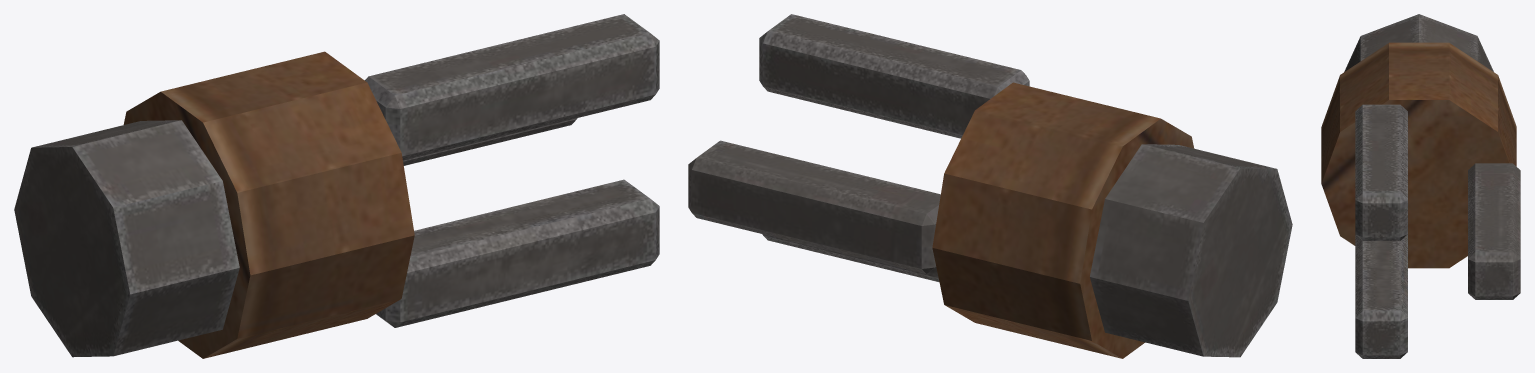
File: flare_cage.glb
The picture shows the model from 3 angles, left to right: view 1: azimuth 30°, elevation 25°; view 2: azimuth 150°, elevation 25°; view 3: azimuth 270°, elevation 25°; orthographic projection. The views are drawn at different scales.
Parts seen in each view (by area): view 1: flare_cage; view 2: flare_cage; view 3: flare_cage.
Boxes of the visible parts, x1,y1,x2,y2 form: flare_cage: [14, 14, 659, 358]; flare_cage: [688, 14, 1292, 358]; flare_cage: [1321, 14, 1520, 358].
Bounding box in the file's own units: 0.06 × 0.0247 × 0.0265.
Materials: 1 (1 with a texture image).
